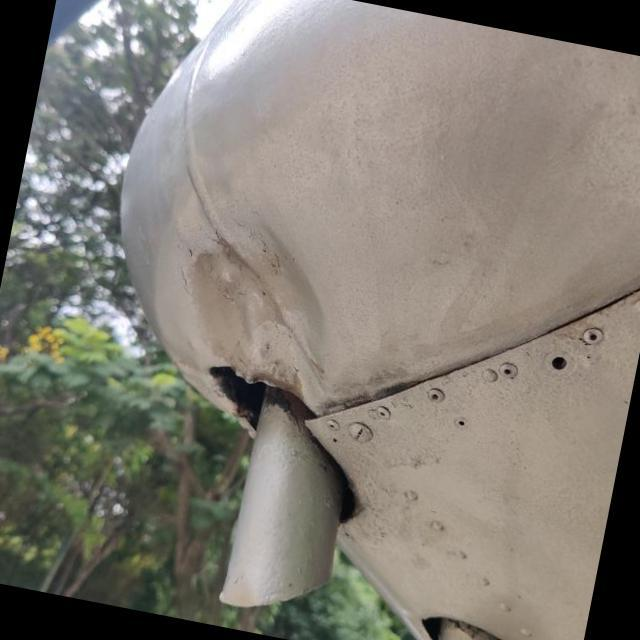Dent: (138, 180, 376, 430)
